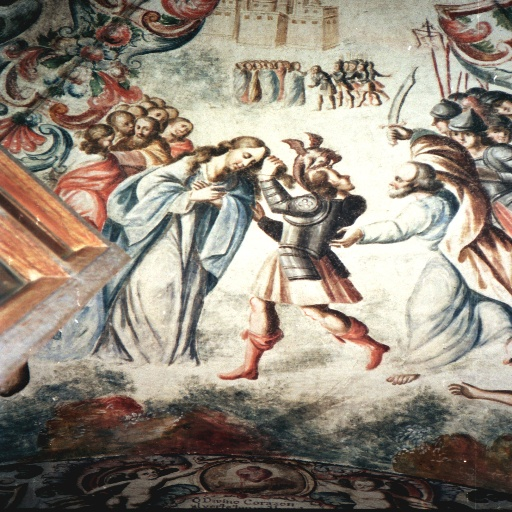hand: (191, 178, 223, 202), (332, 224, 363, 247), (448, 380, 479, 401), (258, 154, 283, 176), (246, 201, 263, 222), (389, 126, 411, 142), (476, 166, 484, 183)
